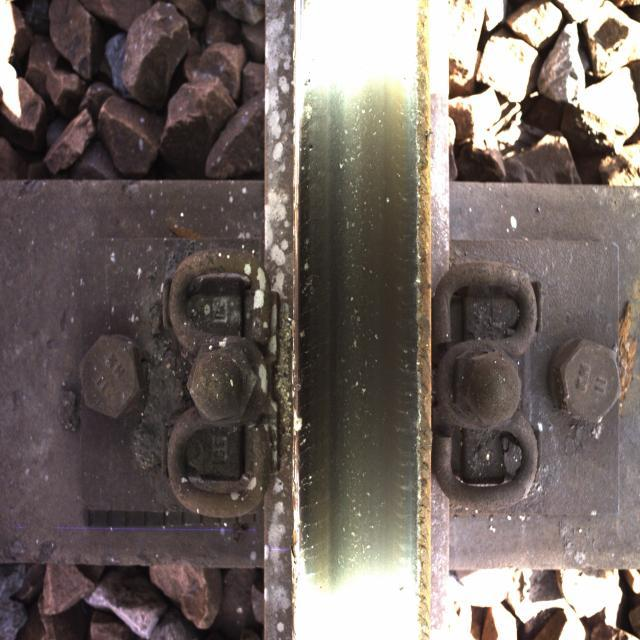normal: (308, 21, 392, 519)
